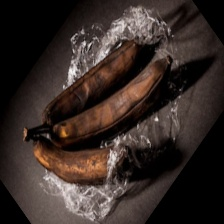banana: (28, 11, 167, 213)
